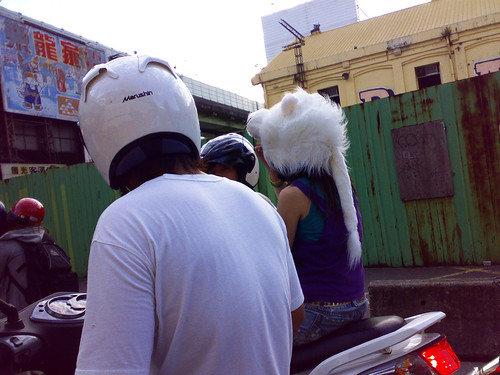helmet: (57, 55, 206, 172), (11, 189, 46, 222)
